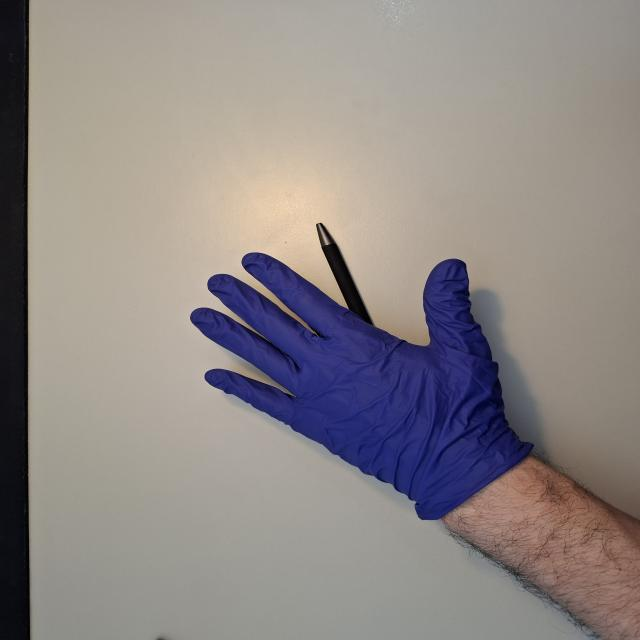glove_on: (186, 249, 526, 518)
